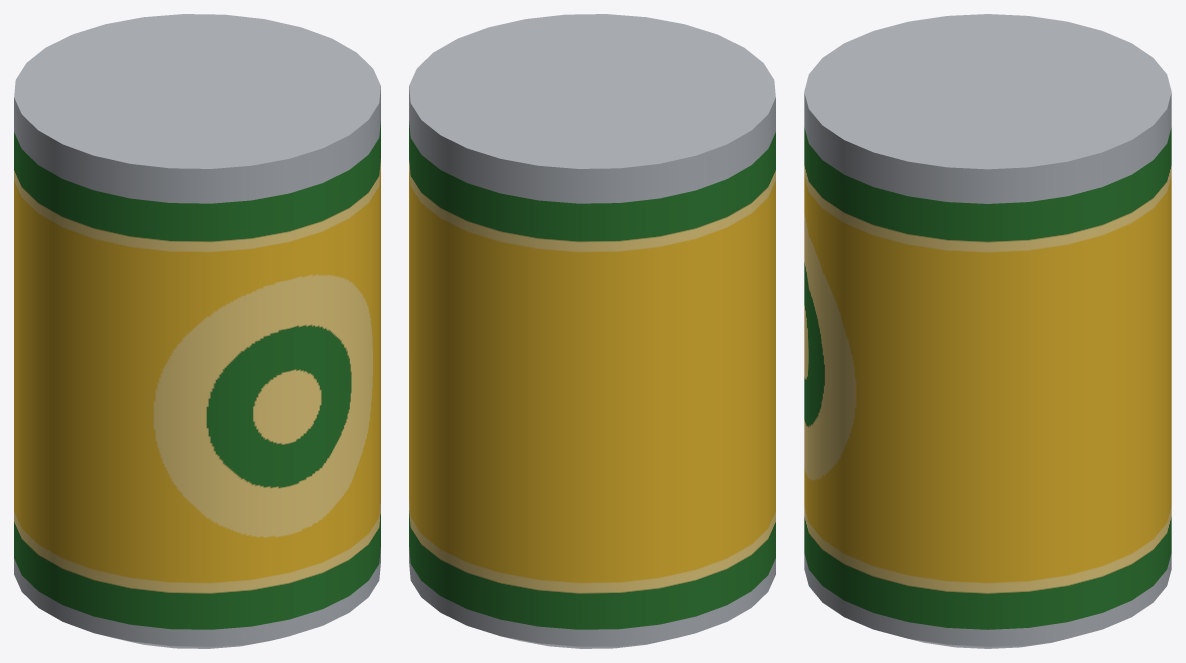
The model's file is Canned_Corn.fbx.
3 views of the same model, side by side, from view 1: azimuth 30°, elevation 25°; view 2: azimuth 150°, elevation 25°; view 3: azimuth 270°, elevation 25° (orthographic).
Parts seen in each view (by area): view 1: Canned_Corn; view 2: Canned_Corn; view 3: Canned_Corn.
Part boxes in pixels (<box>): Canned_Corn: <box>14,14,380,648</box>; Canned_Corn: <box>409,14,775,648</box>; Canned_Corn: <box>804,14,1171,648</box>.
Bounding box in the file's own units: 0.074 × 0.11 × 0.074.
2 materials, 1 textured.
